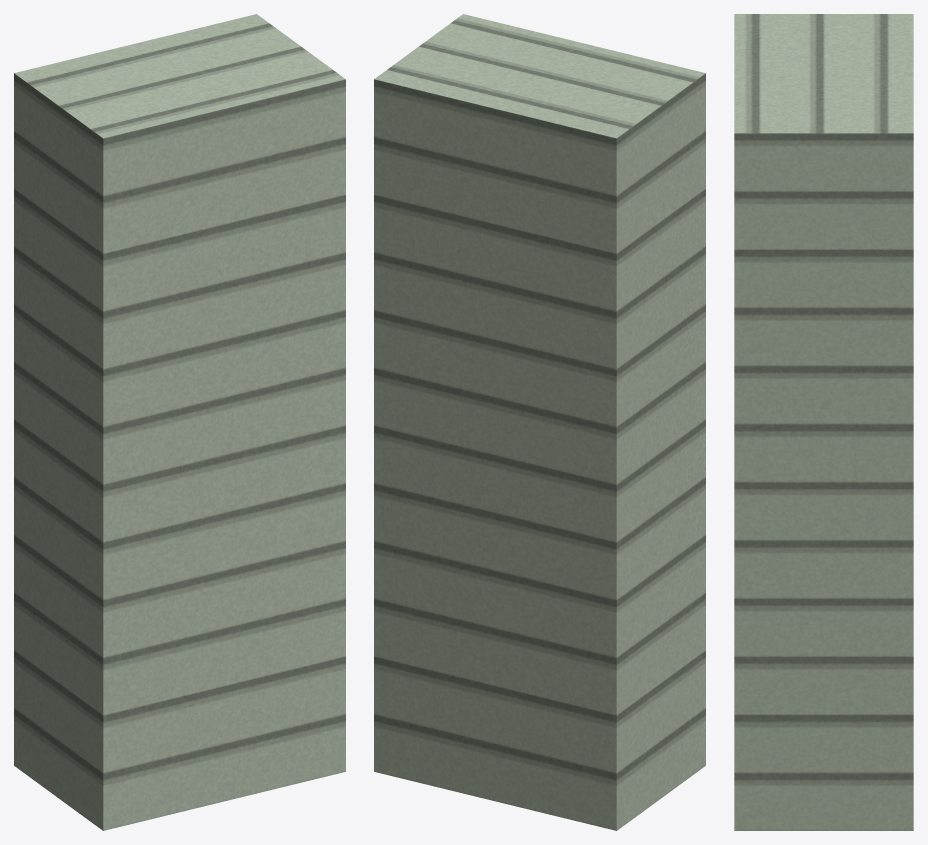
Rendered from gun_cabinet_safe.glb.
3 views of the same model, side by side, from view 1: azimuth 30°, elevation 25°; view 2: azimuth 150°, elevation 25°; view 3: azimuth 270°, elevation 25° (orthographic).
Visible parts, largest first — view 1: gun_cabinet_safe-col; view 2: gun_cabinet_safe-col; view 3: gun_cabinet_safe-col.
Part boxes in pixels (x1=…): gun_cabinet_safe-col: x1=14, y1=14, x2=345, y2=830; gun_cabinet_safe-col: x1=374, y1=14, x2=705, y2=830; gun_cabinet_safe-col: x1=734, y1=14, x2=913, y2=830.
Size of the model in its own units: 0.55 by 1.5 by 0.35.
Materials: 1 (1 with a texture image).
